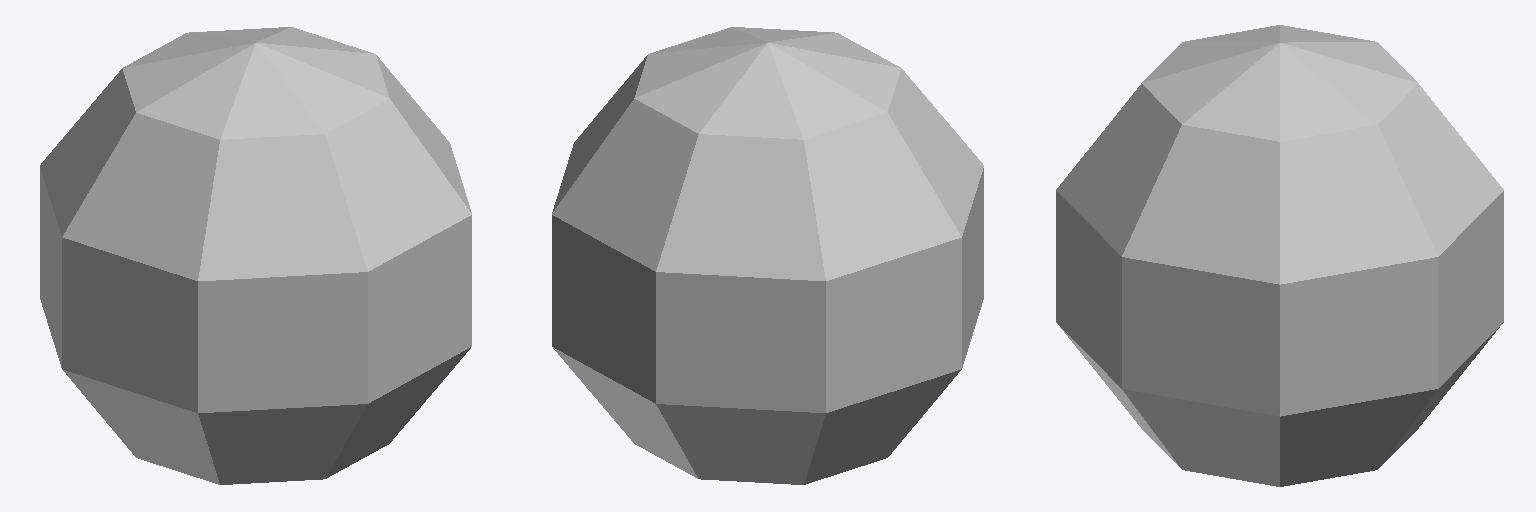
The model's file is marble-center-low.obj.
The picture shows the model from 3 angles: view 1: azimuth 30°, elevation 25°; view 2: azimuth 150°, elevation 25°; view 3: azimuth 270°, elevation 25°; orthographic projection.
Visible parts, largest first — view 1: (%ignore); view 2: (%ignore); view 3: (%ignore).
Boxes of the visible parts, <box> form: (%ignore): <box>40,27,471,484</box>; (%ignore): <box>552,27,983,484</box>; (%ignore): <box>1056,25,1503,486</box>.
Size of the model in its own units: 0.3804 by 0.4 by 0.3804.